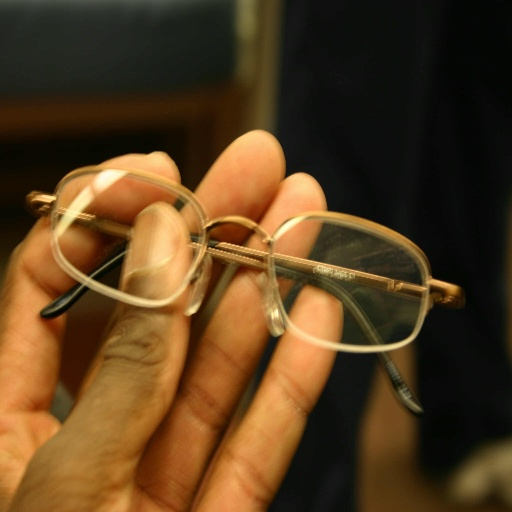hand: (0, 127, 343, 511)
